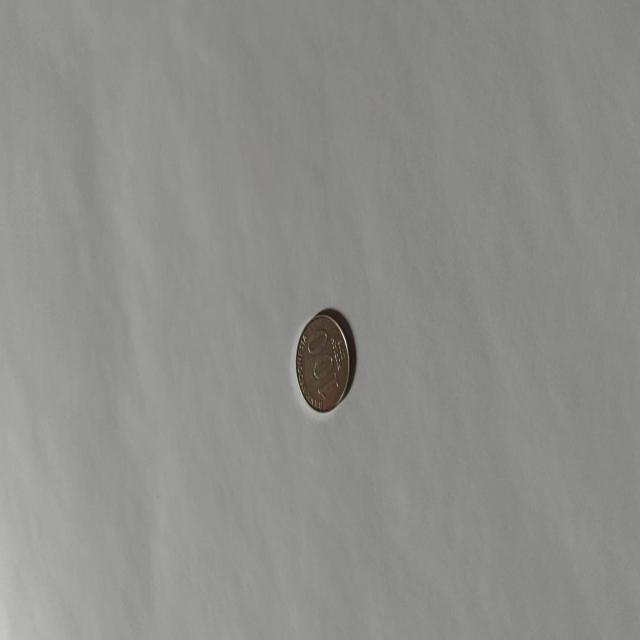seratus rupiah: (294, 311, 350, 413)
